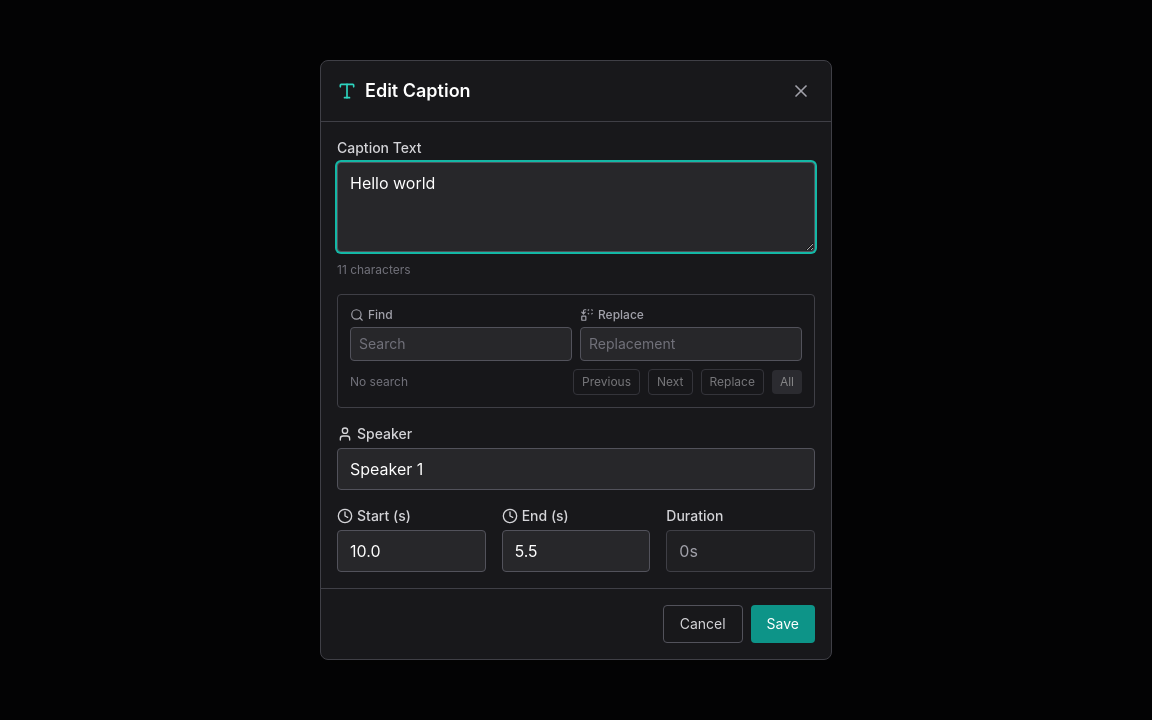
Test case: CaptionEditor › Time Editing › shows validation error for negative time values
Replace the text in the number field labelled "Start (s)" with "-5" at point(411, 551), box left=337, top=530, right=486, bottom=572
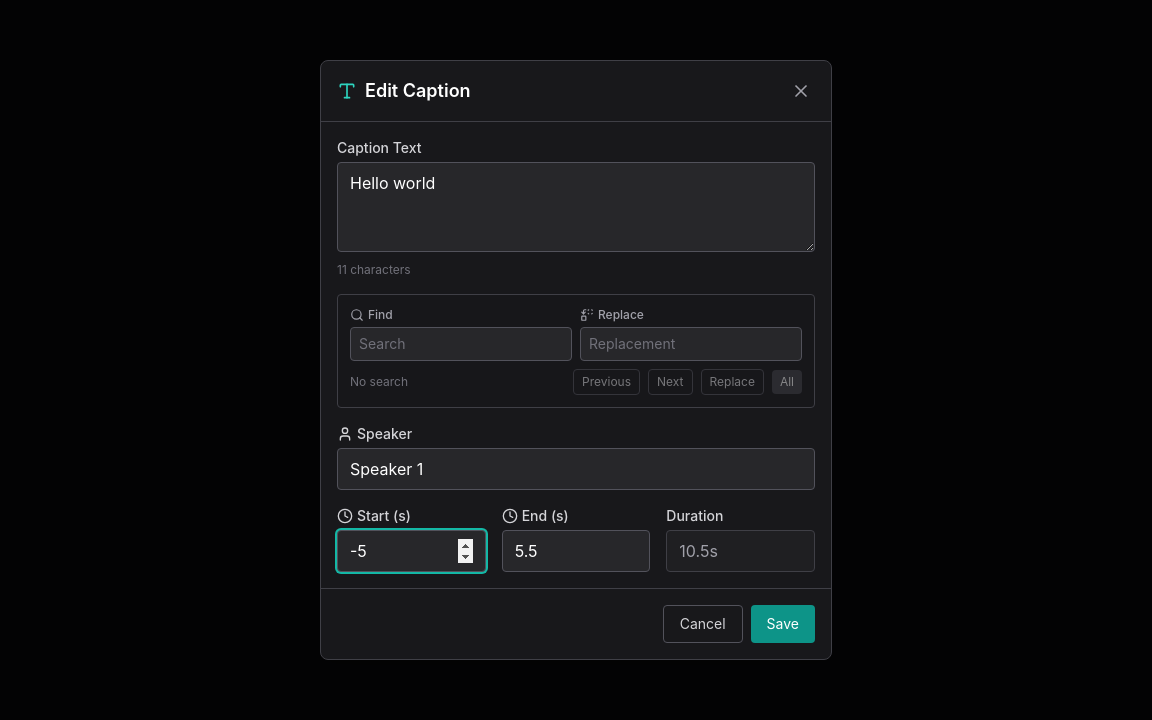
Click the button "Save" at point(783, 624), box left=751, top=605, right=815, bottom=643
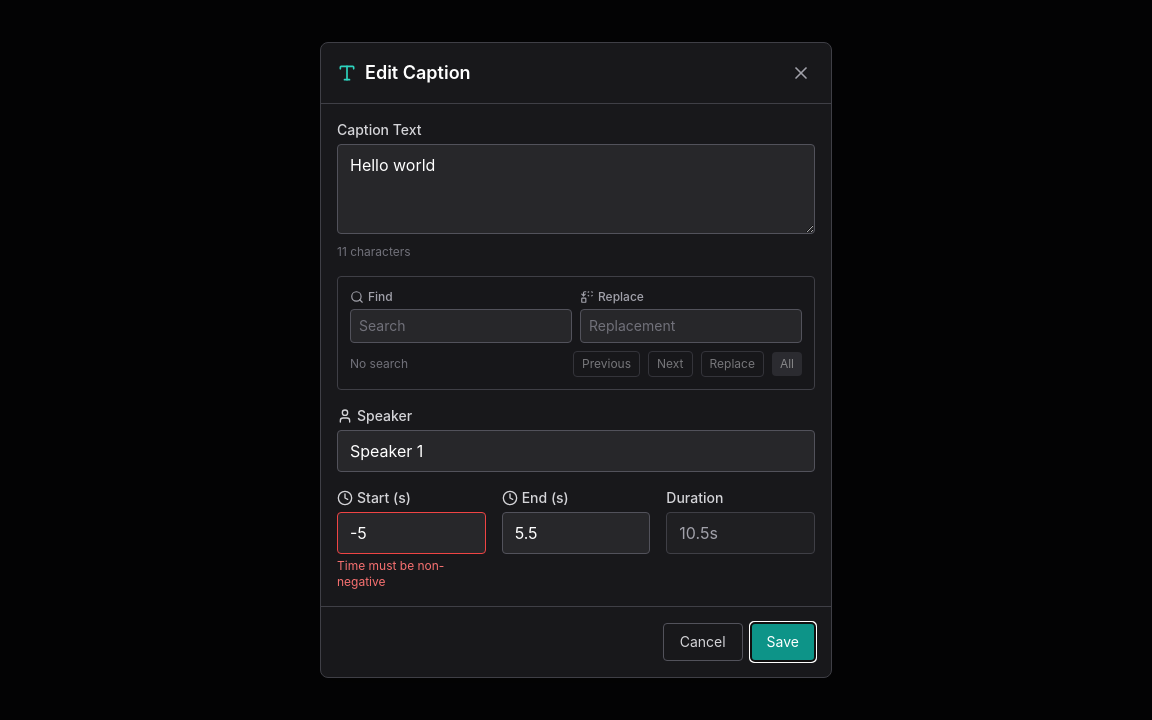
expect the text "Time must be non-negative" is shown: met, box left=337, top=558, right=444, bottom=589
